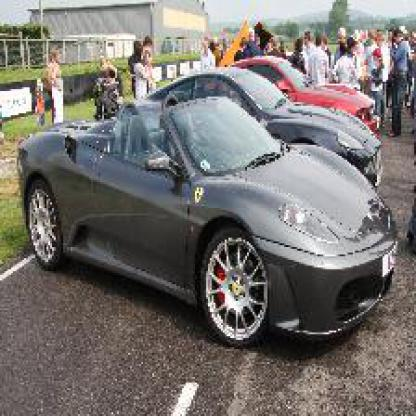not_emergency: (9, 104, 414, 357)
